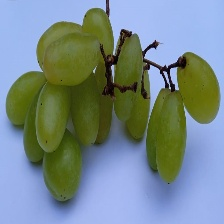grapes: (10, 43, 198, 185)
